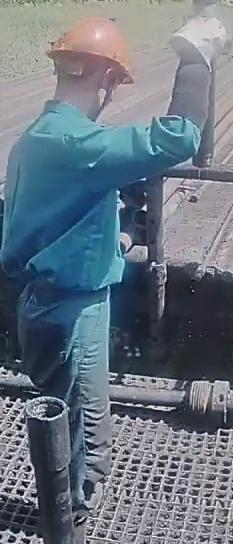gloves: (168, 4, 233, 78)
helmet: (45, 18, 135, 88)
vest: (0, 120, 120, 325)
